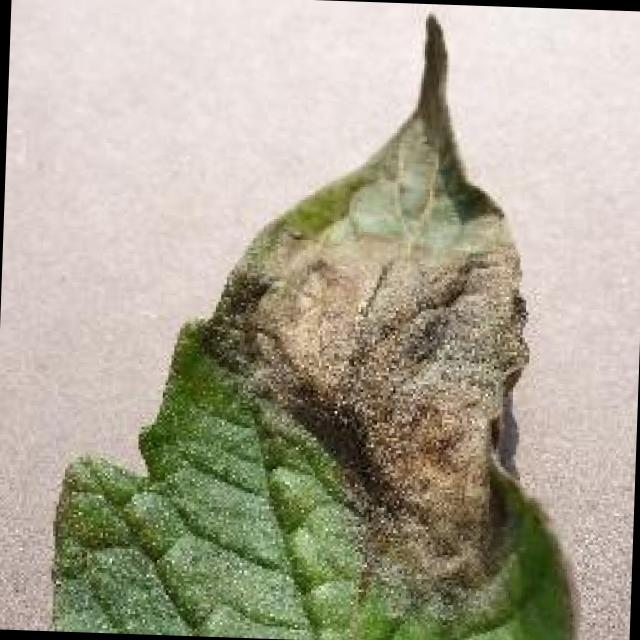Tomato_Late_Blight: (248, 138, 558, 602)
